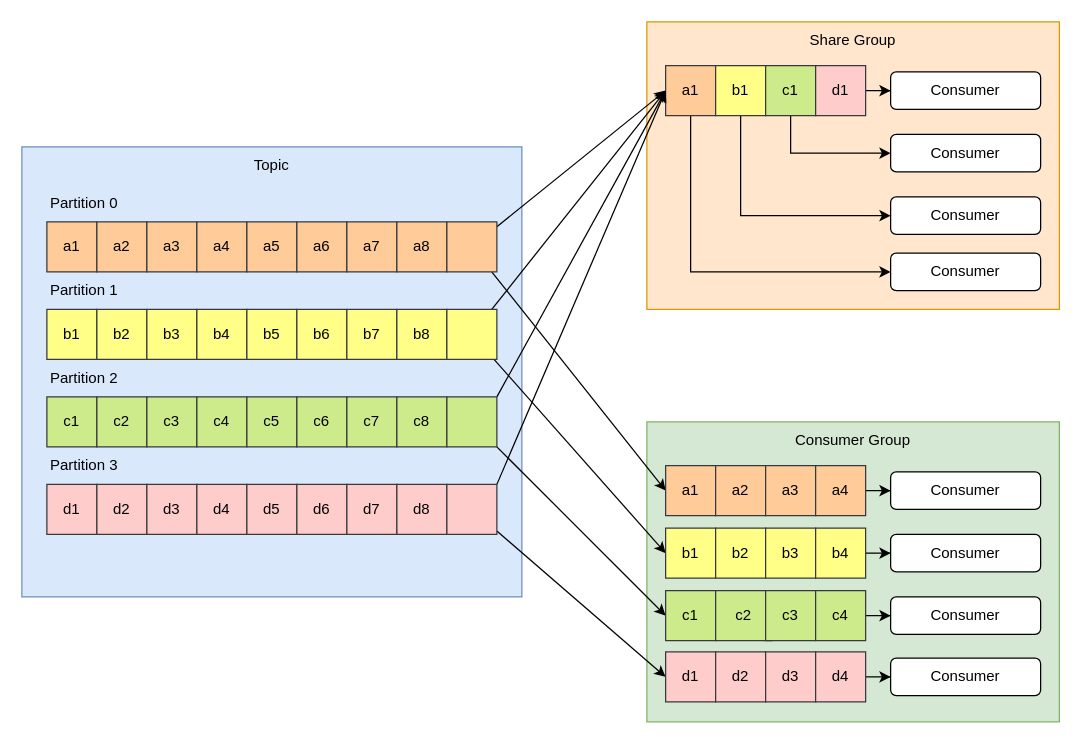
This 1081x744 diagram has some shape labels left out. Each missing label, with the box of its shape:
a9: (446, 221, 497, 272)
b9: (446, 308, 497, 359)
c9: (446, 396, 497, 447)
d9: (446, 483, 497, 534)
